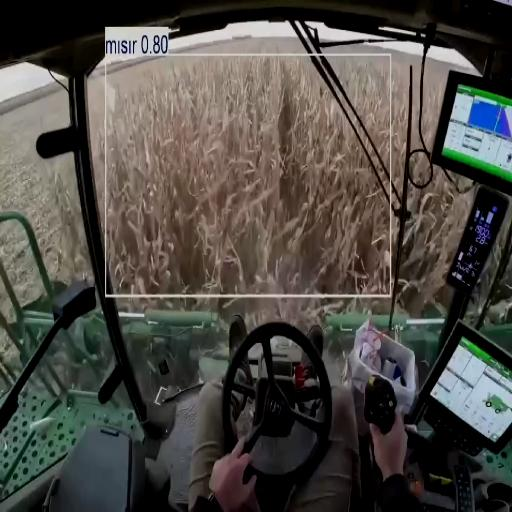misir: (91, 56, 390, 293)
